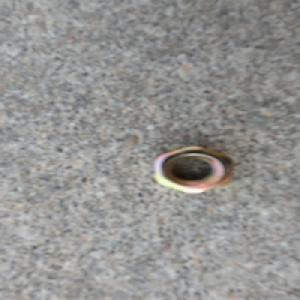Nut: (150, 144, 236, 194)
